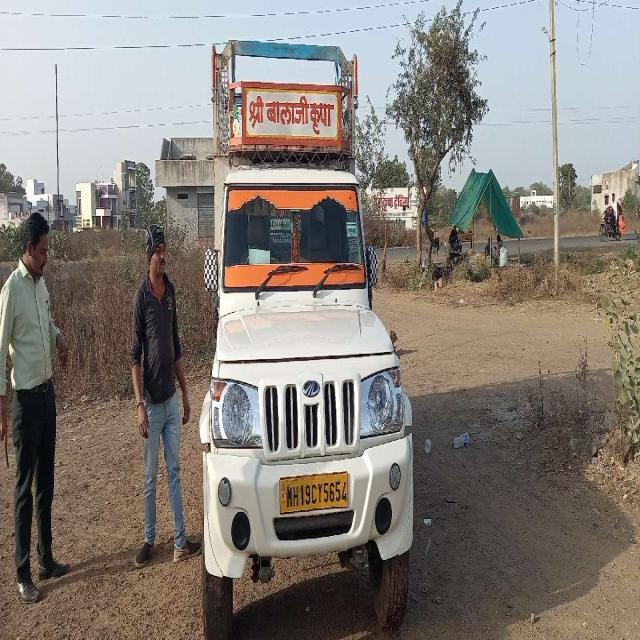light_vehicle: (195, 59, 414, 580)
